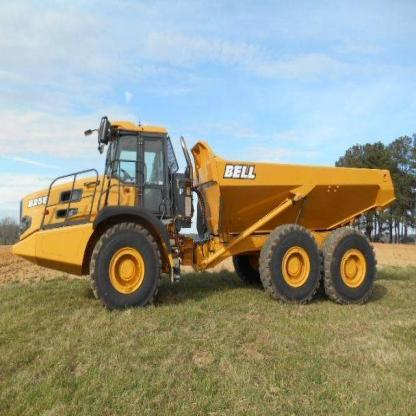dump_truck: (13, 107, 398, 306)
